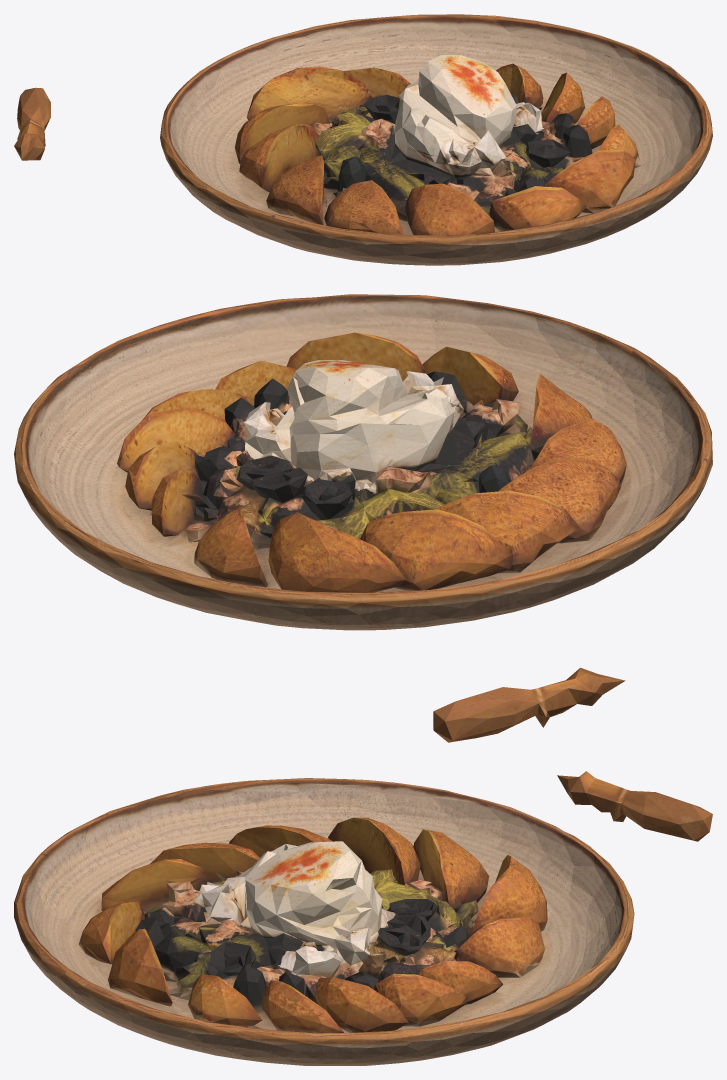
The model's file is 1775479793737_salad+plate+3d+model.glb.
3 views of the same model, one above another, from view 1: azimuth 30°, elevation 25°; view 2: azimuth 150°, elevation 25°; view 3: azimuth 270°, elevation 25° (orthographic). The views are drawn at different scales.
Parts seen in each view (by area): view 1: tripo_node_09b1f850-50d4-4503-b4b0-4792d7ac194b; view 2: tripo_node_09b1f850-50d4-4503-b4b0-4792d7ac194b; view 3: tripo_node_09b1f850-50d4-4503-b4b0-4792d7ac194b.
Part boxes in pixels (left/top/right/bottom): tripo_node_09b1f850-50d4-4503-b4b0-4792d7ac194b: left=14, top=14, right=712, bottom=265; tripo_node_09b1f850-50d4-4503-b4b0-4792d7ac194b: left=14, top=294, right=712, bottom=742; tripo_node_09b1f850-50d4-4503-b4b0-4792d7ac194b: left=14, top=771, right=712, bottom=1065.
Bounding box in the file's own units: 1 × 0.2036 × 0.984.
Materials: 1 (1 with a texture image).
